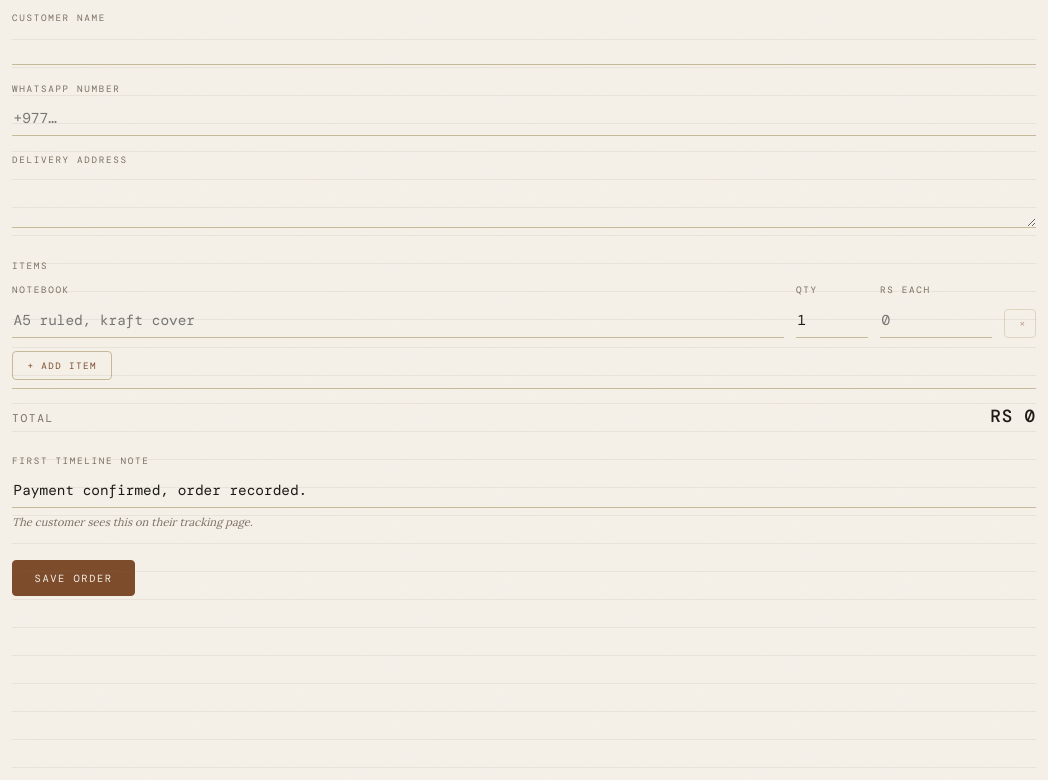
NewOrderForm › removes the row the staff actually clicked, not the last one
The image size is (1048, 780).
Click the button "+ Add item" at (62, 366), box [12,351,112,380]
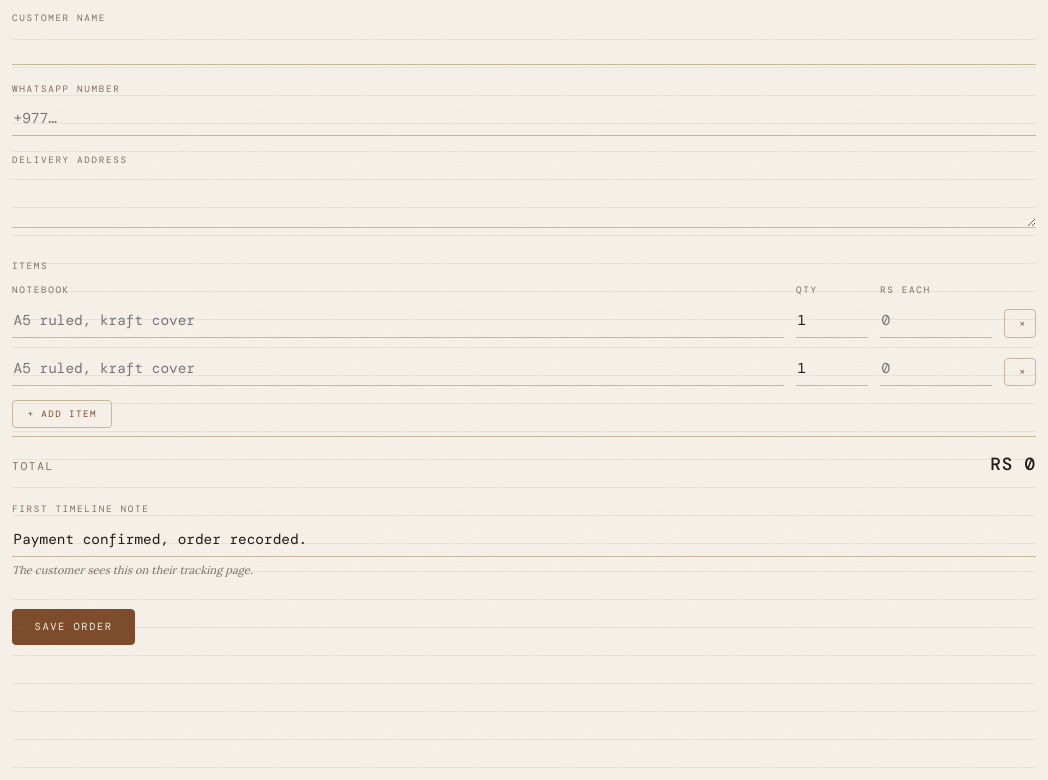
Type "First" into the field with placeholder "A5 ruled, kraft cover" below "Notebook" at (398, 320), box [12,303,784,338]
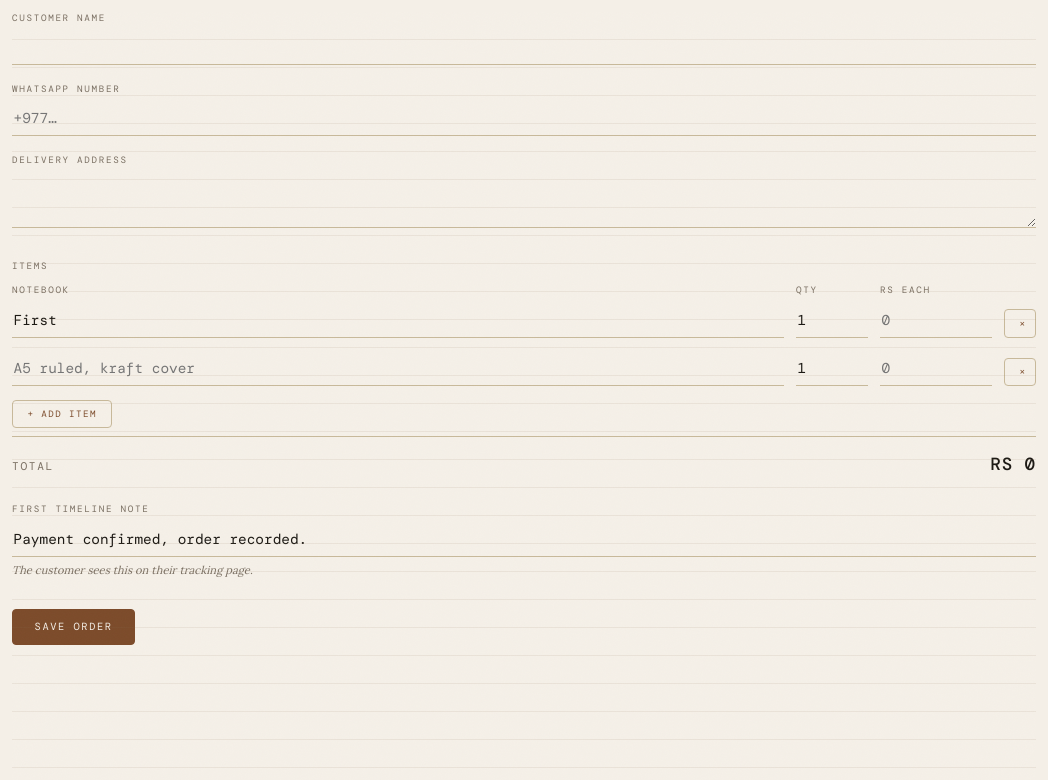
Type "Second" into the field with placeholder "A5 ruled, kraft cover" at (398, 369), box [12,351,784,386]
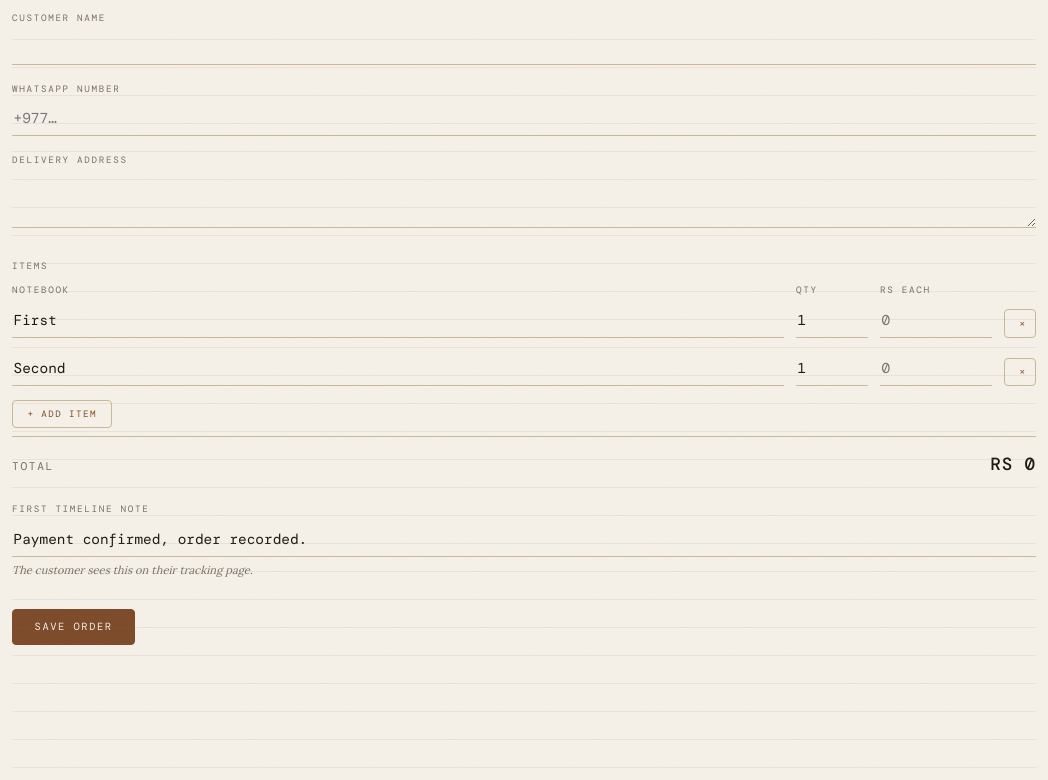
Click the button named "remove item 1" at (1020, 324), box [1004,309,1036,338]
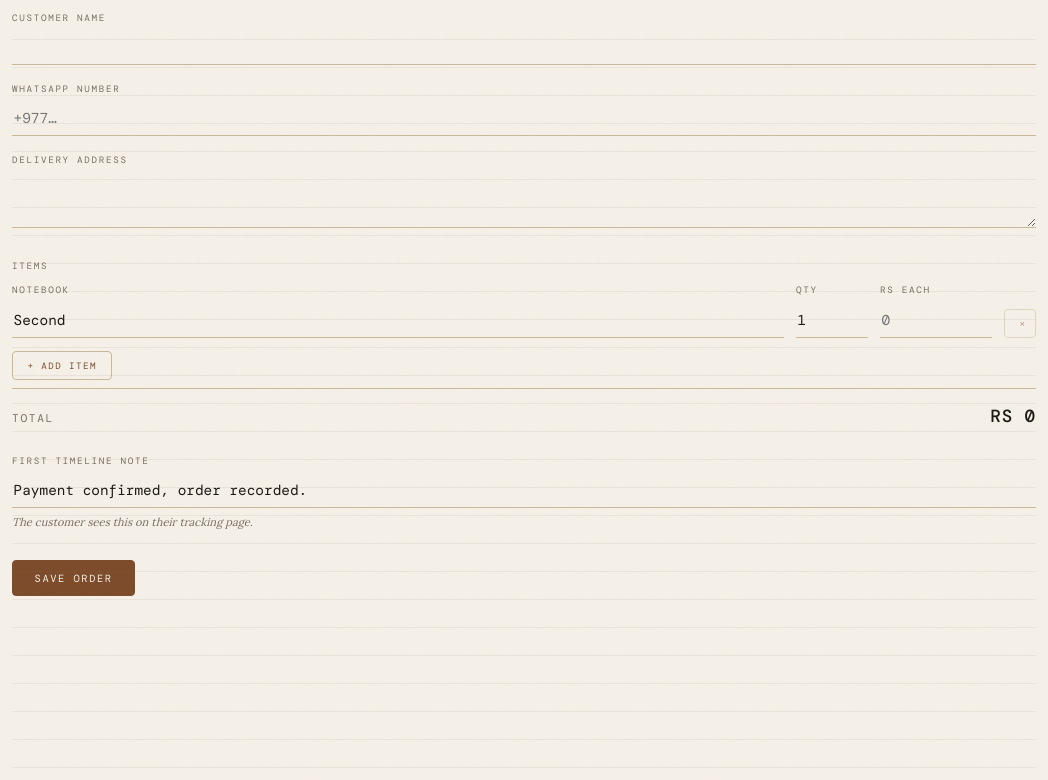
Now the number of fields with placeholder "A5 ruled, kraft cover" is 1, box [12,303,784,338]
